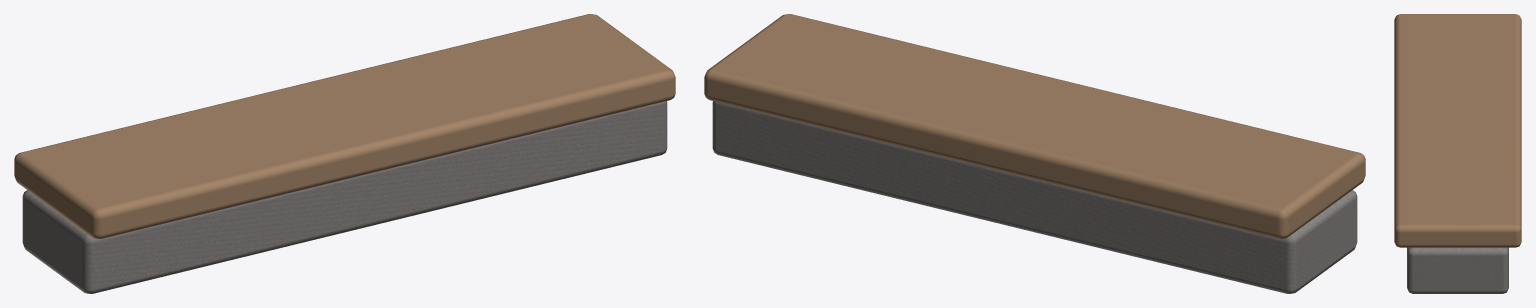
Rendered from arena-shooter-map-kit-ledge-trim-a38fcf9d__23082.glb.
The picture shows the model from 3 angles, left to right: view 1: azimuth 30°, elevation 25°; view 2: azimuth 150°, elevation 25°; view 3: azimuth 270°, elevation 25°; orthographic projection. The views are drawn at different scales.
Parts seen in each view (by area): view 1: ledge-trim; view 2: ledge-trim; view 3: ledge-trim.
Part boxes in pixels (x1,y1,x2,y2): ledge-trim: [14, 14, 675, 293]; ledge-trim: [704, 14, 1365, 293]; ledge-trim: [1394, 14, 1521, 293].
Bounding box in the file's own units: 2 × 0.3 × 0.5001.
2 materials, 1 textured.
